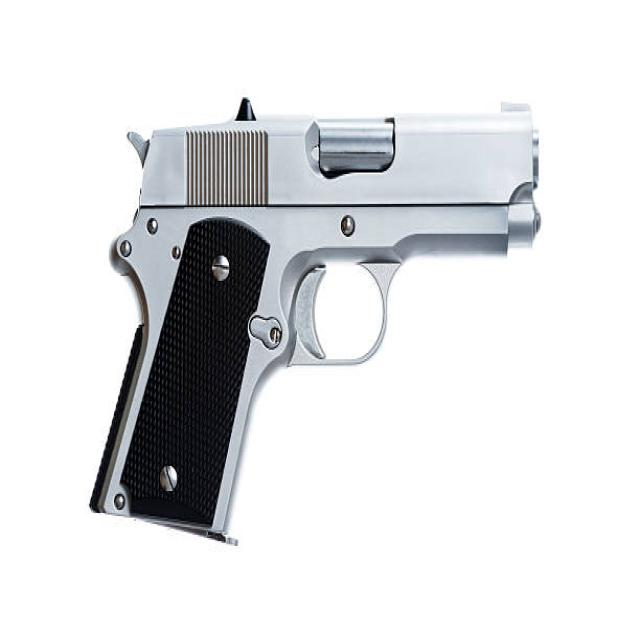pistol: (84, 90, 552, 553)
